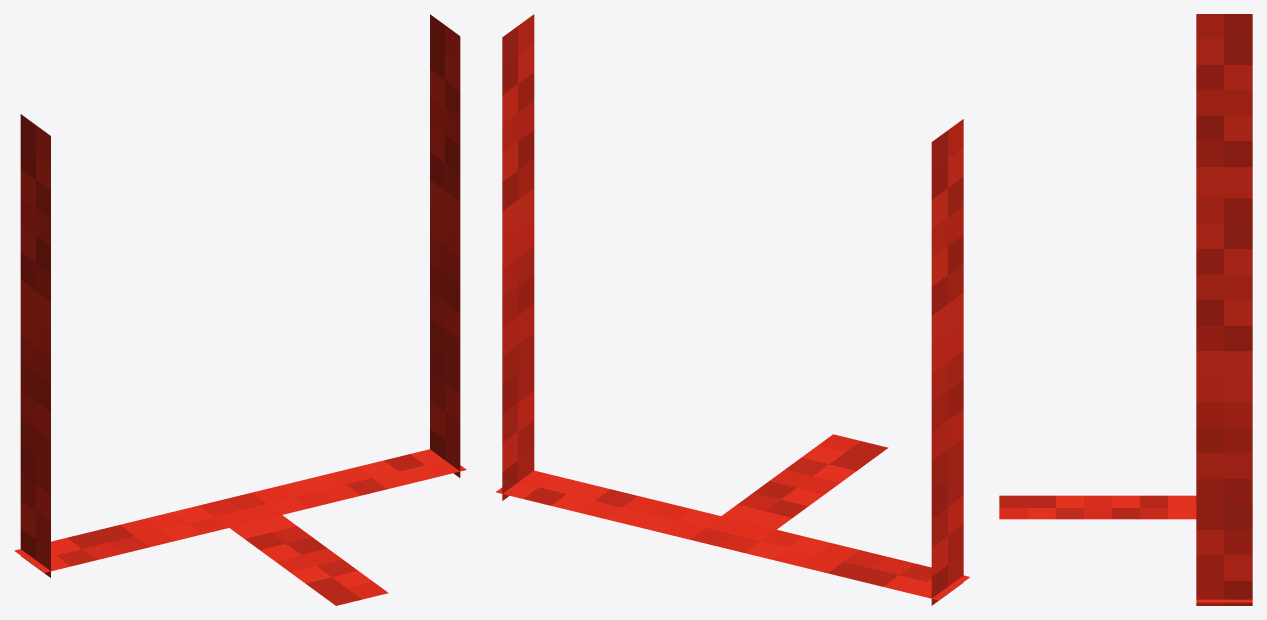
The model's file is dust_on_2210.gltf.
3 views of the same model, side by side, from view 1: azimuth 30°, elevation 25°; view 2: azimuth 150°, elevation 25°; view 3: azimuth 270°, elevation 25° (orthographic). The views are drawn at different scales.
Visible parts, largest first — view 1: dust_on_2210; view 2: dust_on_2210; view 3: dust_on_2210.
Boxes of the visible parts, x1,y1,x2,y2 form: dust_on_2210: (14, 14, 466, 605); dust_on_2210: (496, 14, 969, 605); dust_on_2210: (999, 14, 1252, 605).
Bounding box in the file's own units: 1 × 1 × 0.5625.
1 material, 1 textured.
